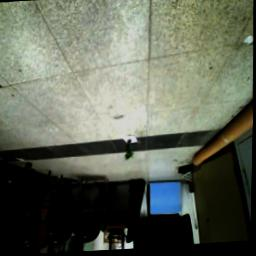herb: (126, 142, 135, 163)
